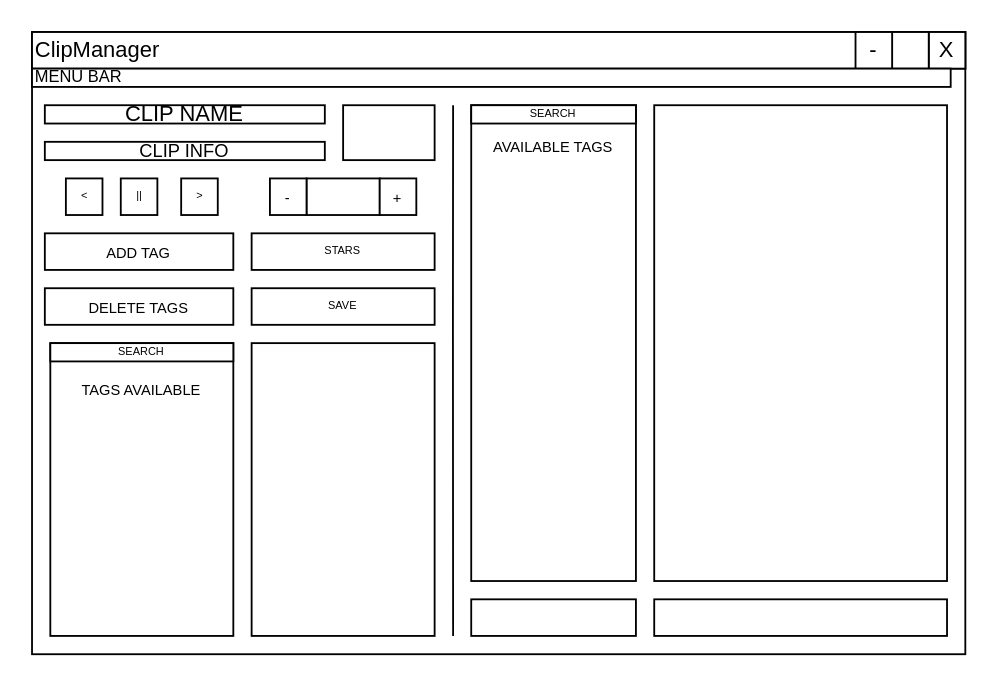
Some shapes in this 997 by 686 pixel diagram are drawn without their labels. Each missing label, with the centre of its shape:
"ADDED TAGS" goes at [342,488].
"Export clip names to txt" goes at [552,616].
"Export clip to folder" goes at [799,616].
"INT" goes at [342,196].
"MATCHING CLIPS FOUND" goes at [799,342].
"RENAME" goes at [388,131].
